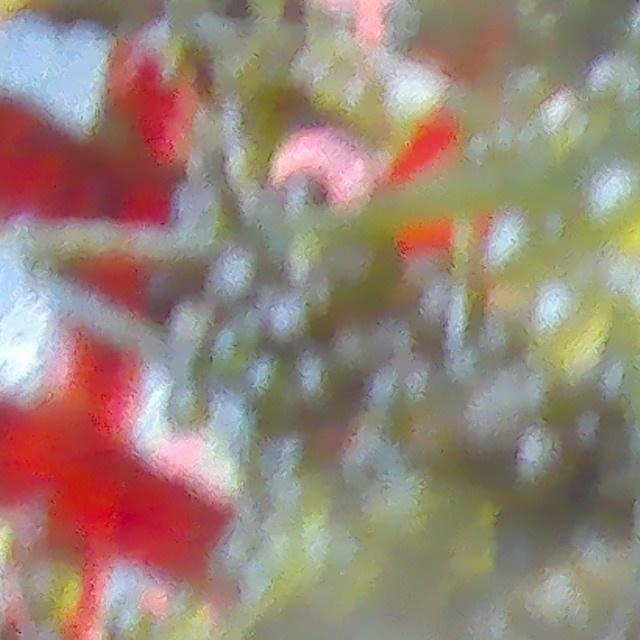SeaGrape: (521, 274, 599, 362), (582, 160, 640, 243), (587, 55, 640, 107)
